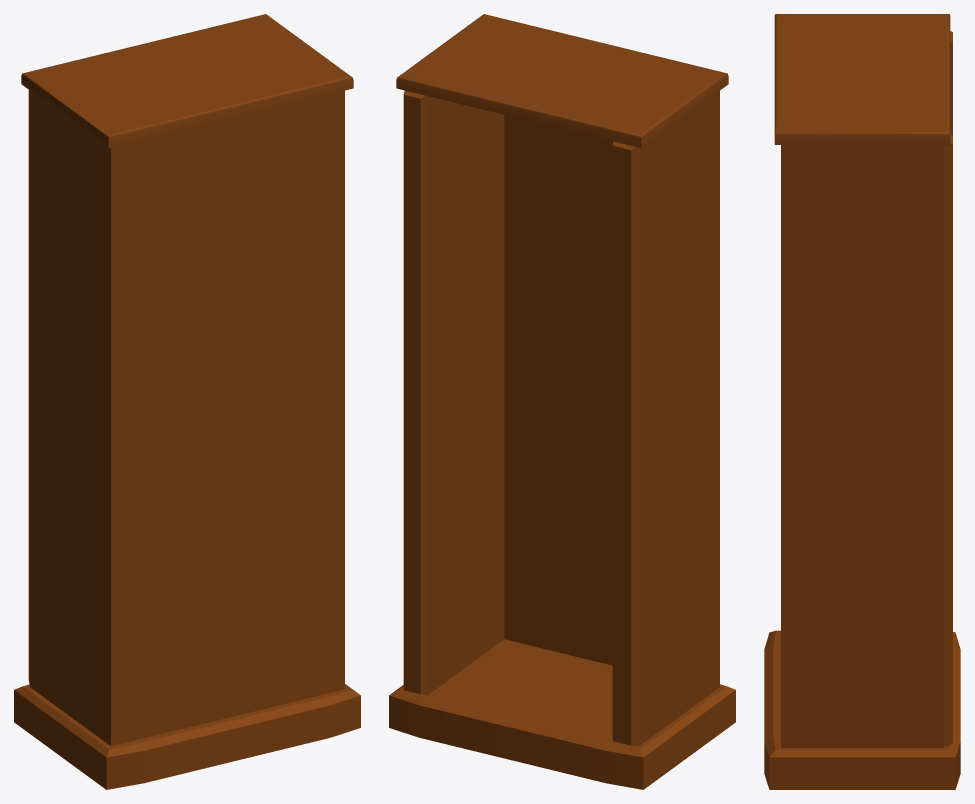
File: wardrobe_001.FBX
3 renders of one model, left to right at view 1: azimuth 30°, elevation 25°; view 2: azimuth 150°, elevation 25°; view 3: azimuth 270°, elevation 25°, orthographic.
Parts seen in each view (by area): view 1: wardrobe_001; view 2: wardrobe_001; view 3: wardrobe_001.
Boxes of the visible parts, x1=… form: wardrobe_001: x1=14, y1=14, x2=360, y2=789; wardrobe_001: x1=389, y1=14, x2=735, y2=789; wardrobe_001: x1=764, y1=14, x2=960, y2=789.
Bounding box in the file's own units: 0.8162 × 2 × 0.542.
